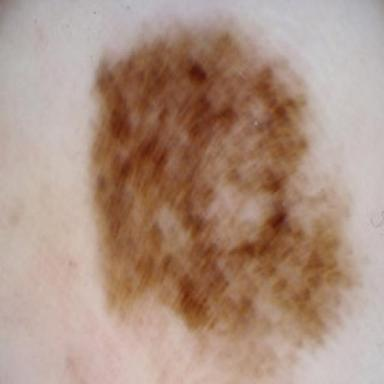Melanoma: (92, 25, 349, 374)
